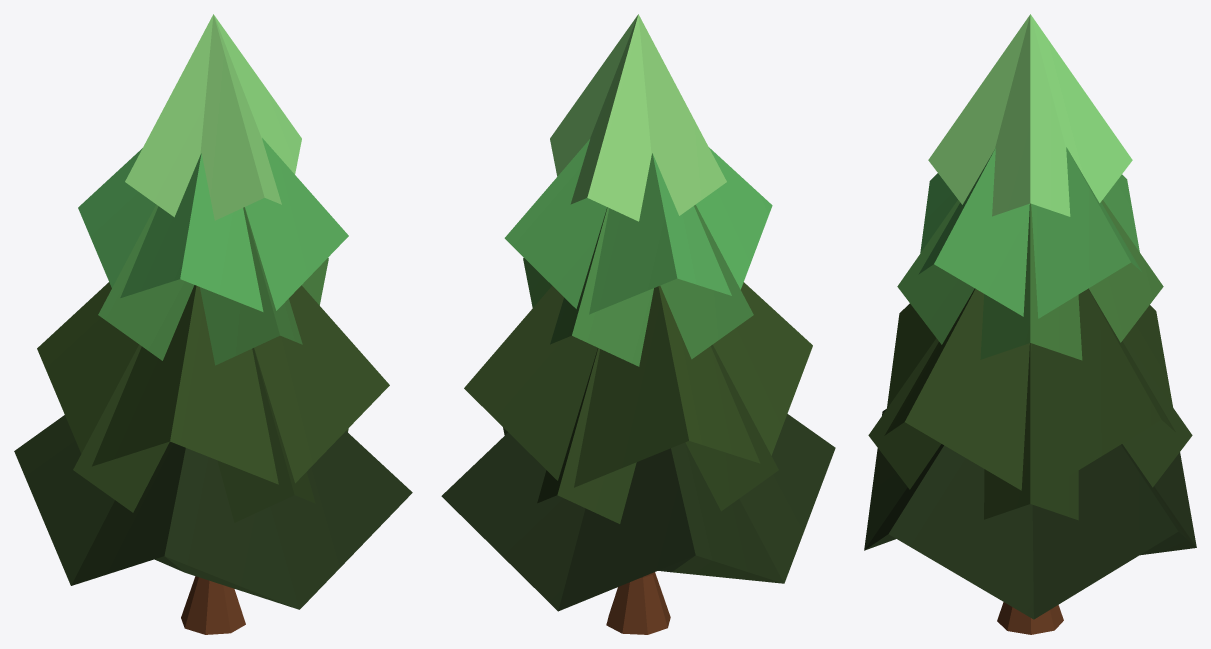
File: 1gs-khliebnikova-mariia-pi.glb
3 renders of one model, left to right at view 1: azimuth 30°, elevation 25°; view 2: azimuth 150°, elevation 25°; view 3: azimuth 270°, elevation 25°, orthographic.
Visible parts, largest first — view 1: pi; view 2: pi; view 3: pi.
Boxes of the visible parts, x1=… form: pi: x1=14, y1=14, x2=412, y2=634; pi: x1=441, y1=14, x2=835, y2=634; pi: x1=864, y1=14, x2=1196, y2=634.
Size of the model in its own units: 2.98 by 5.99 by 2.98.
1 material, 1 textured.
